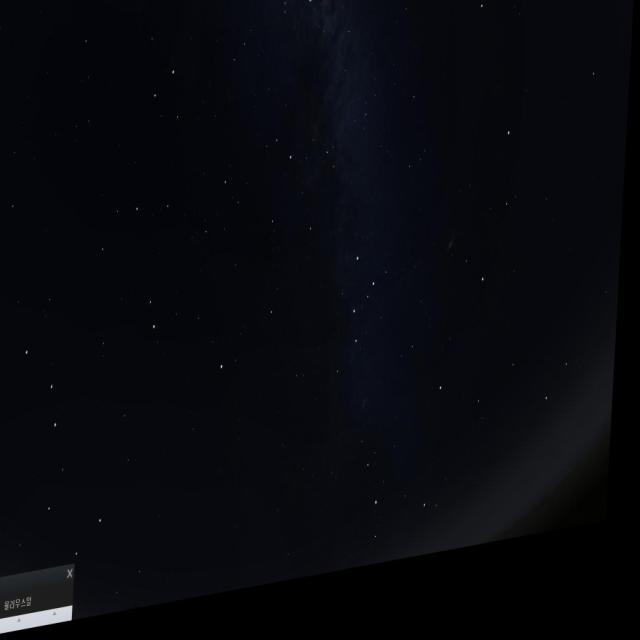cassiopeia: (328, 251, 388, 404)
ursa_major: (15, 322, 118, 576)
